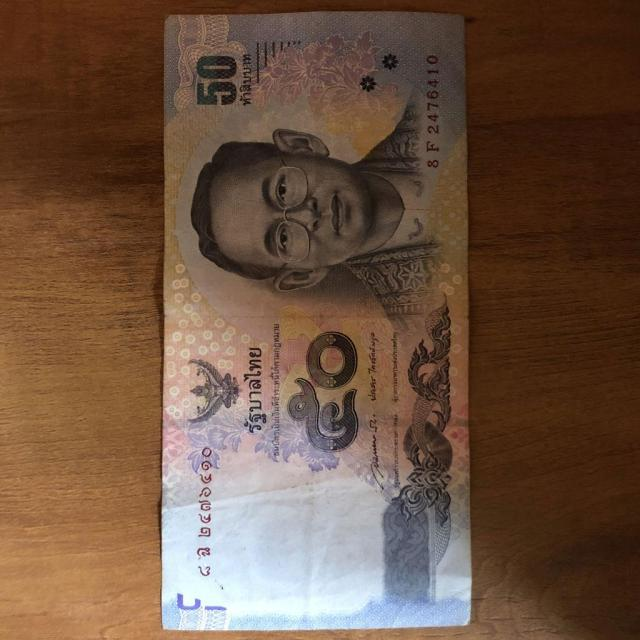THAI50: (161, 12, 471, 629)
